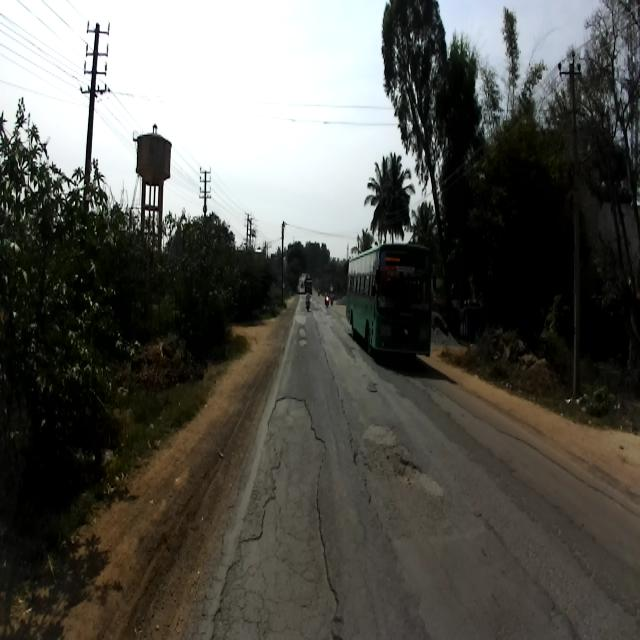bus ahead at: (342, 244, 441, 364)
